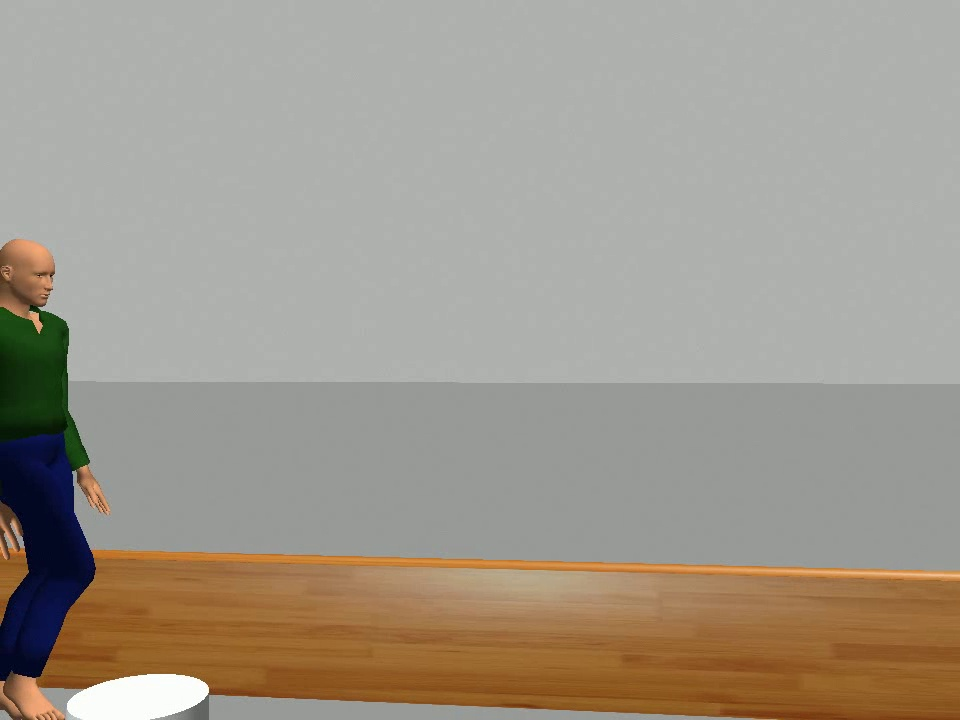person: (1, 235, 115, 720)
